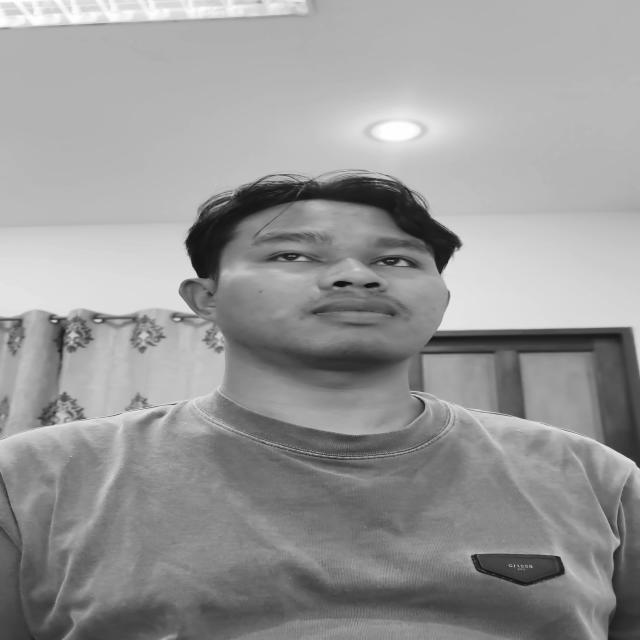ear: (179, 278, 216, 321)
